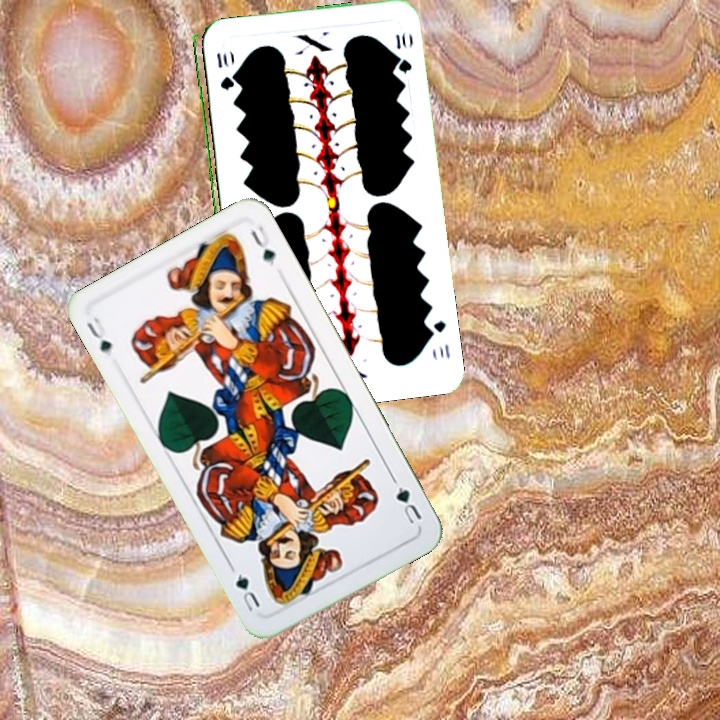G10: (423, 316, 453, 361), (212, 49, 233, 93)
GU: (388, 474, 425, 527), (82, 312, 117, 359)
